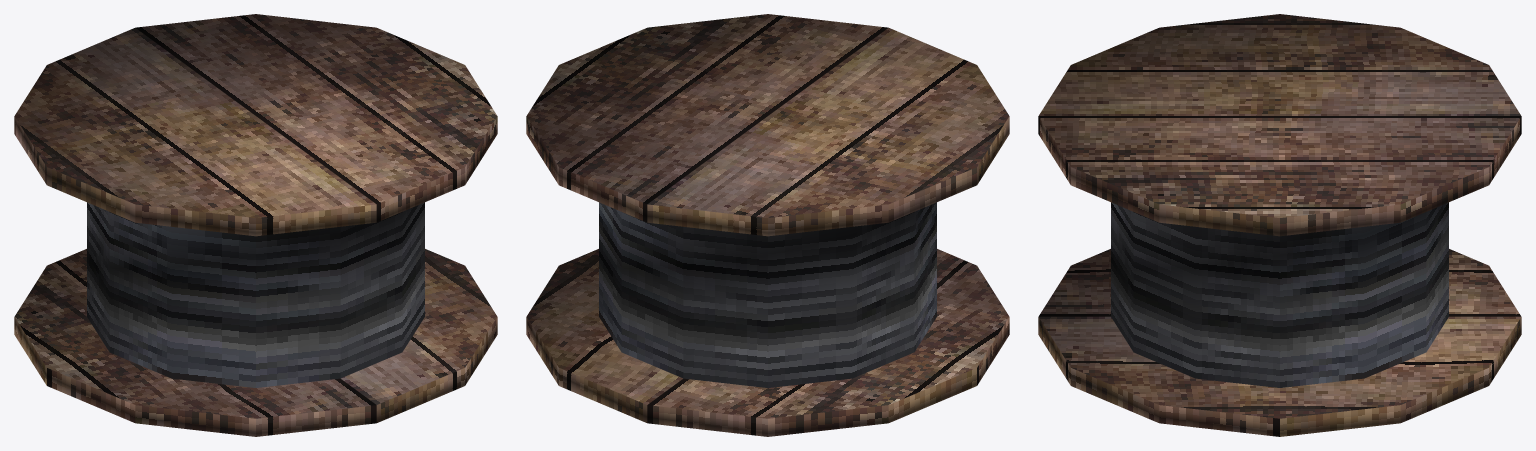
The model's file is spool.glb.
3 renders of one model, left to right at view 1: azimuth 30°, elevation 25°; view 2: azimuth 150°, elevation 25°; view 3: azimuth 270°, elevation 25°, orthographic.
Parts seen in each view (by area): view 1: Spool; view 2: Spool; view 3: Spool.
Boxes of the visible parts, x1=… form: Spool: x1=14, y1=14, x2=497, y2=436; Spool: x1=526, y1=14, x2=1009, y2=436; Spool: x1=1038, y1=14, x2=1521, y2=436.
Size of the model in its own units: 2 by 1 by 2.
Materials: 1 (1 with a texture image).
